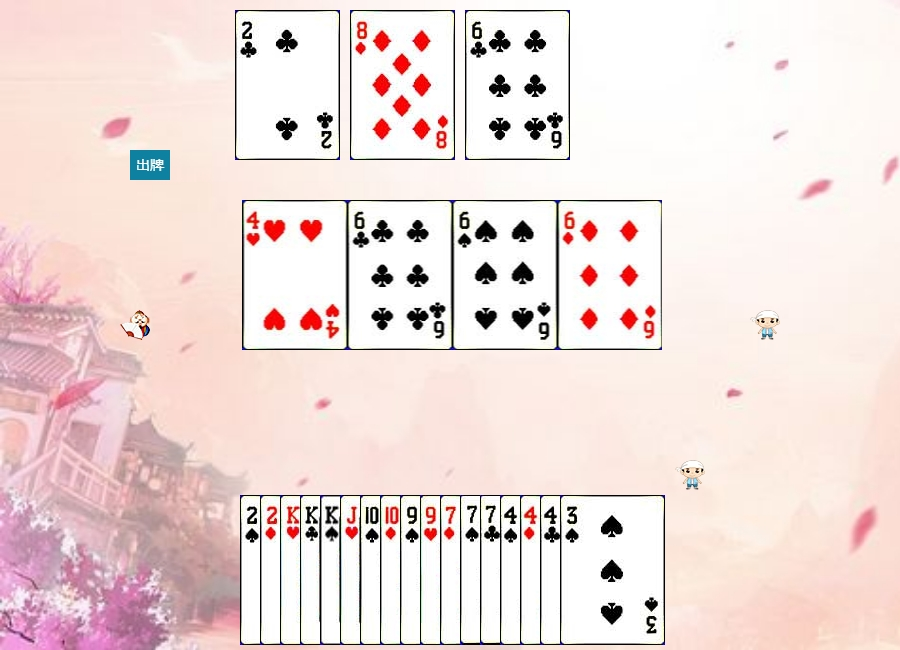10~1: (380, 495, 485, 645)
10~4: (360, 495, 465, 645)
11~3: (340, 495, 445, 645)
13~2: (300, 495, 405, 645)
13~3: (280, 495, 385, 645)
13~4: (320, 495, 425, 645)
15~1: (260, 495, 365, 645)
15~2: (235, 10, 340, 160)
15~4: (240, 495, 345, 645)
3~4: (560, 495, 665, 645)
4~1: (520, 495, 625, 645)
4~2: (540, 495, 645, 645)
4~3: (243, 200, 348, 350)
4~4: (500, 495, 605, 645)
6~1: (558, 200, 663, 350)
6~2: (465, 10, 570, 160), (348, 200, 453, 350)
6~4: (453, 200, 558, 350)
7~1: (440, 495, 545, 645)
7~2: (480, 495, 585, 645)
7~4: (460, 495, 565, 645)
8~1: (350, 10, 455, 160)
9~3: (420, 495, 525, 645)
9~4: (400, 495, 505, 645)
